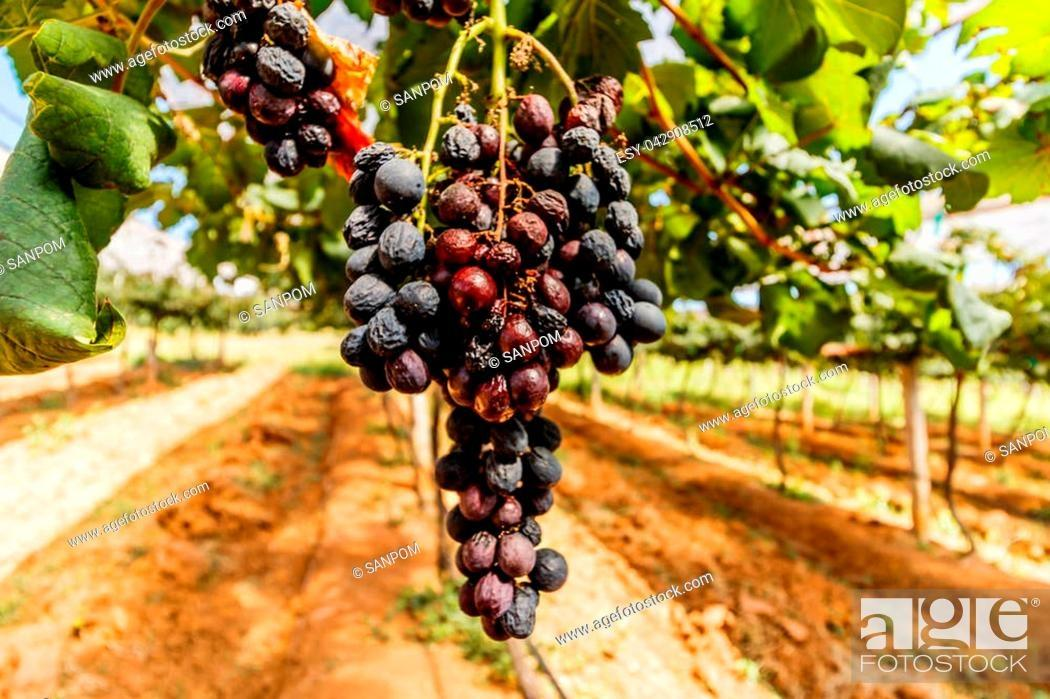Grape Rotten: (200, 1, 668, 642), (338, 71, 667, 642), (200, 1, 342, 178)
